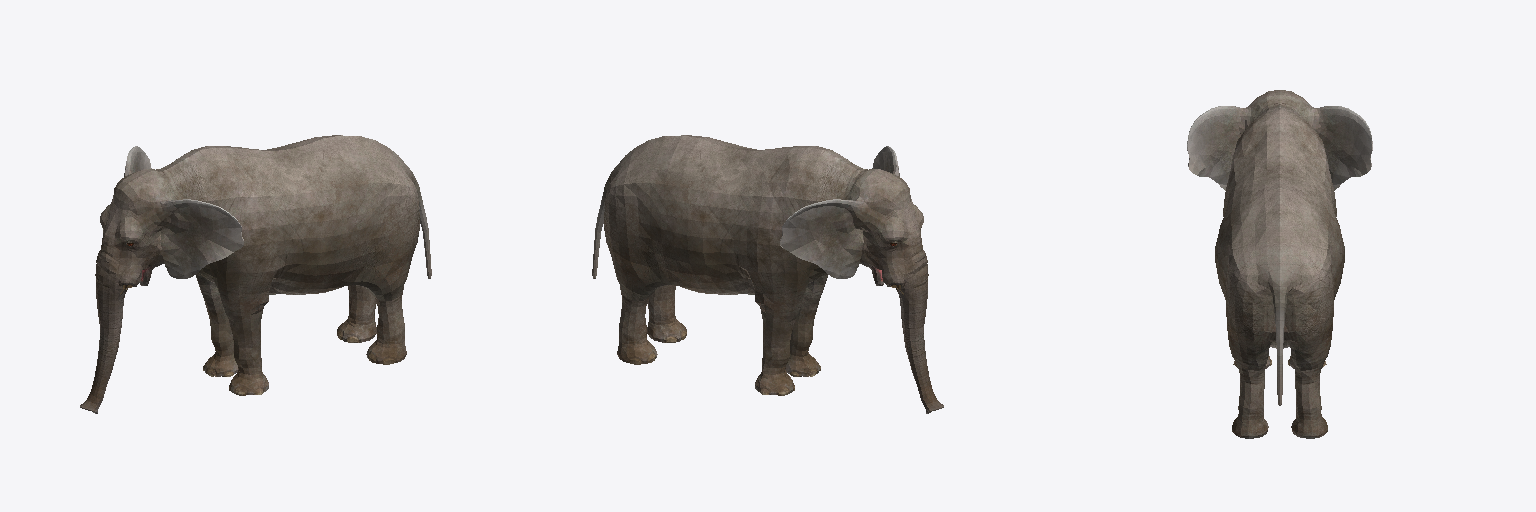
3 renders of one model, left to right at view 1: azimuth 30°, elevation 25°; view 2: azimuth 150°, elevation 25°; view 3: azimuth 270°, elevation 25°, orthographic.
Visible parts, largest first — view 1: SK_Elephant SK_Elephant; view 2: SK_Elephant SK_Elephant; view 3: SK_Elephant SK_Elephant.
Boxes of the visible parts, x1=… form: SK_Elephant SK_Elephant: x1=80, y1=135, x2=431, y2=413; SK_Elephant SK_Elephant: x1=592, y1=135, x2=943, y2=413; SK_Elephant SK_Elephant: x1=1187, y1=90, x2=1372, y2=438.
Size of the model in its own units: 17.08 by 11.14 by 7.82.
Materials: 1 (1 with a texture image).